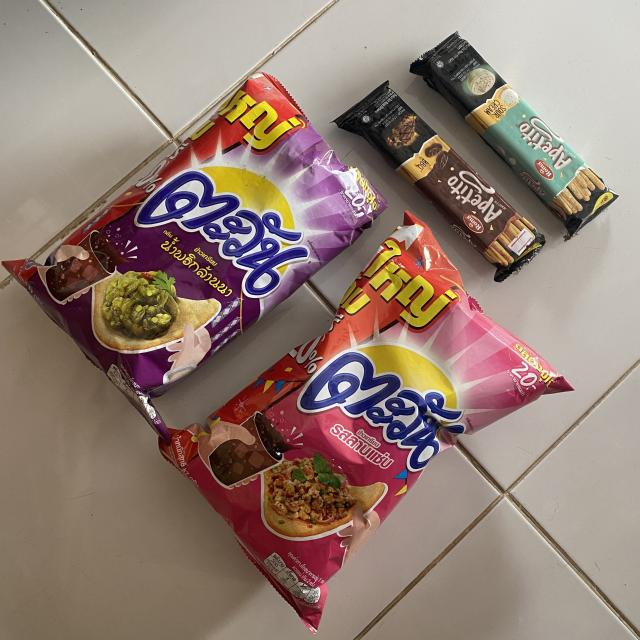plastik: (159, 212, 572, 632), (2, 72, 386, 443), (410, 33, 618, 239), (334, 81, 545, 282)
